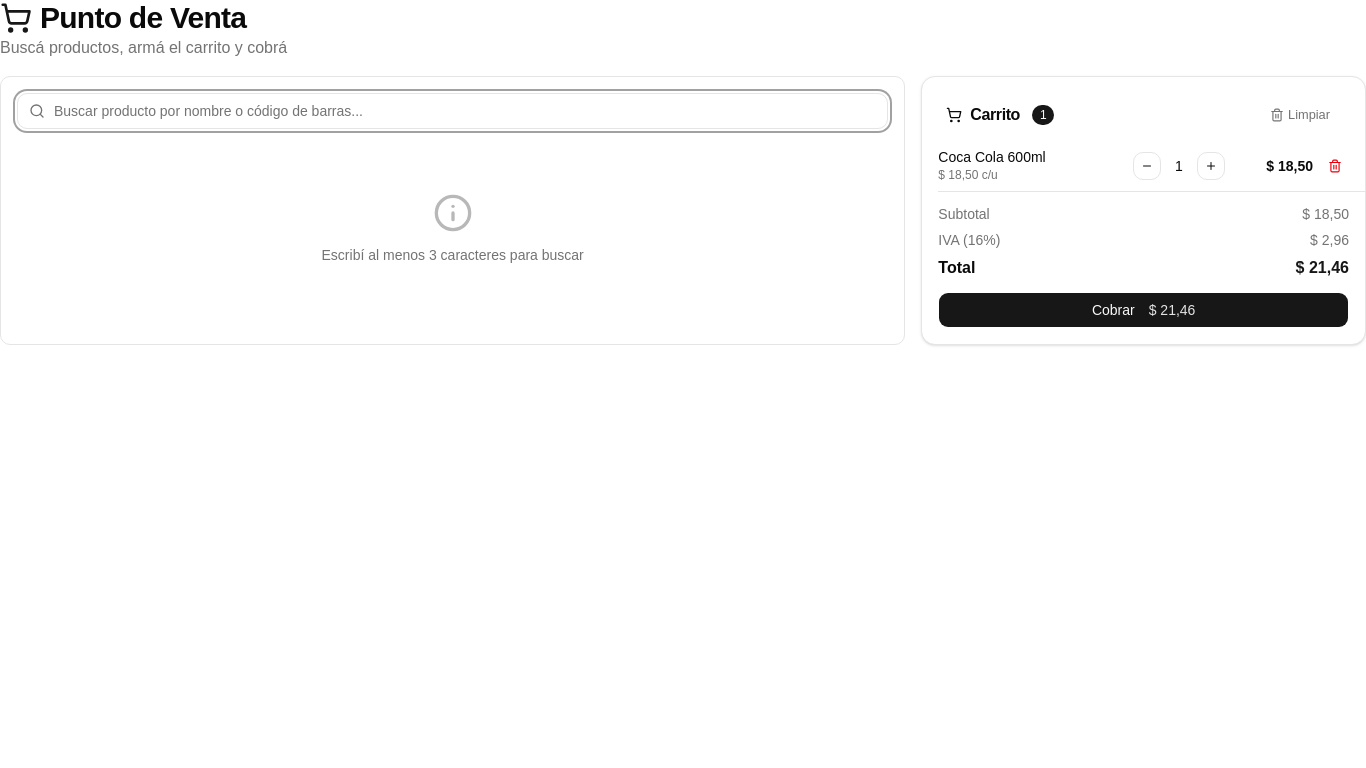
it: SalesPage integration › transfer payment shows pending validation warning and transfer fields
Click the button "Cobrar $ 21,46" at (1113, 310), box [938,292,1349,328]
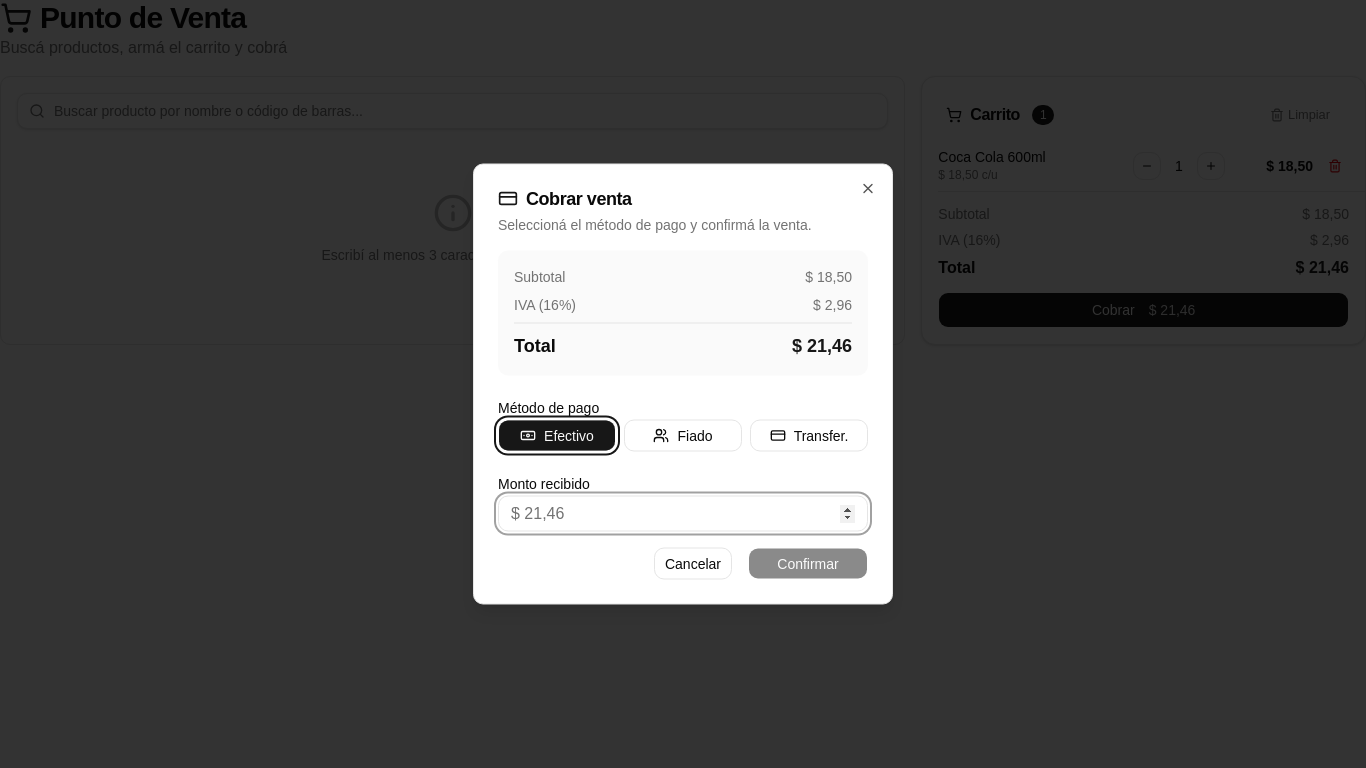
# Cambiar a modo transferencia
Click the button "Transfer." at (809, 436), box [750,420,868,452]
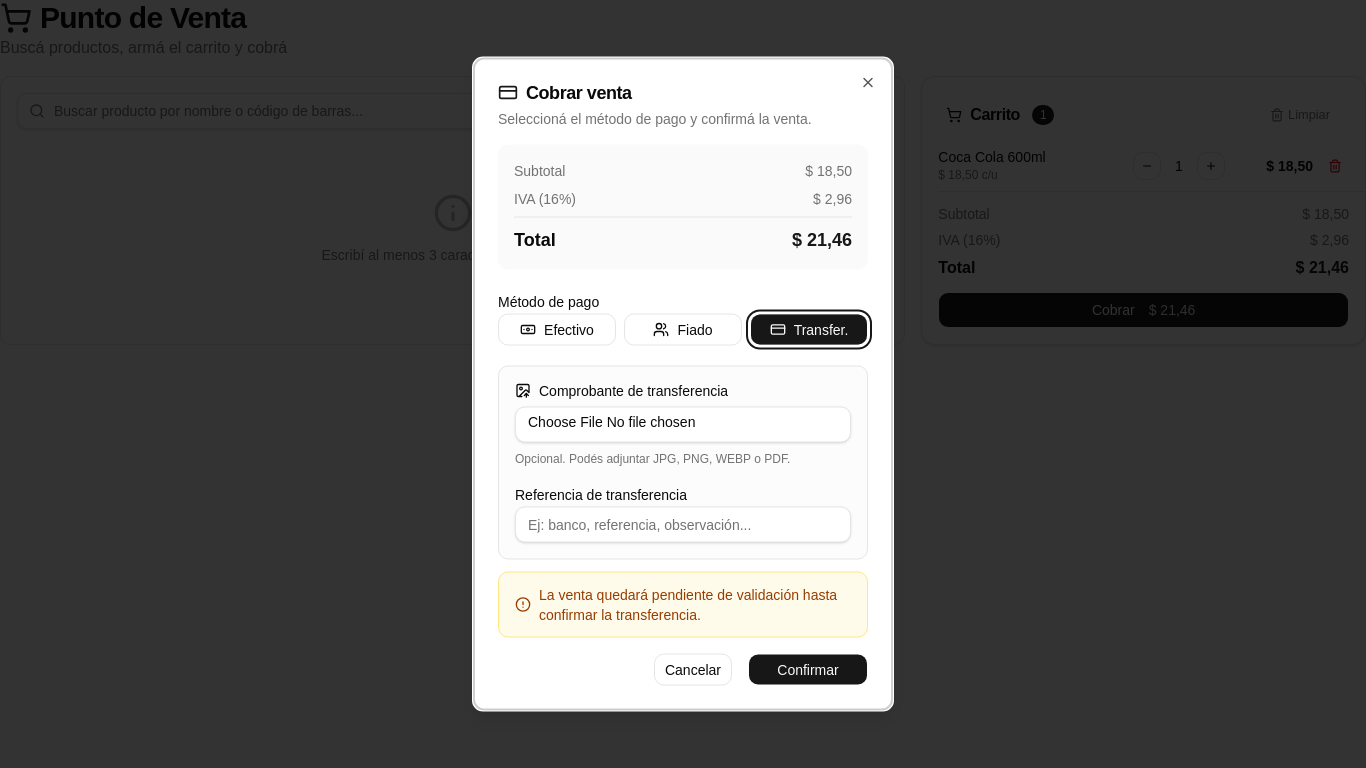
Check: the text "La venta quedará pendiente de validación hasta confirmar la transferencia." is shown, box [498,572,868,638]
Check: the file field labelled "Comprobante de transferencia" is shown, box [515,406,851,442]
Check: the field labelled "Referencia de transferencia" is shown, box [515,506,851,542]
